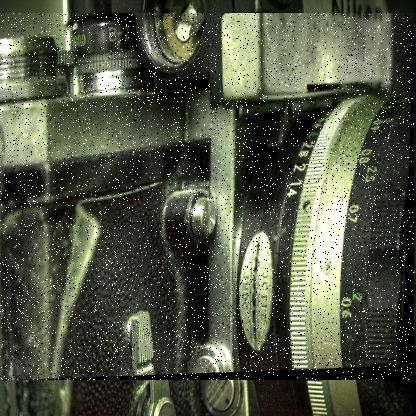Camera: (1, 14, 416, 382)
